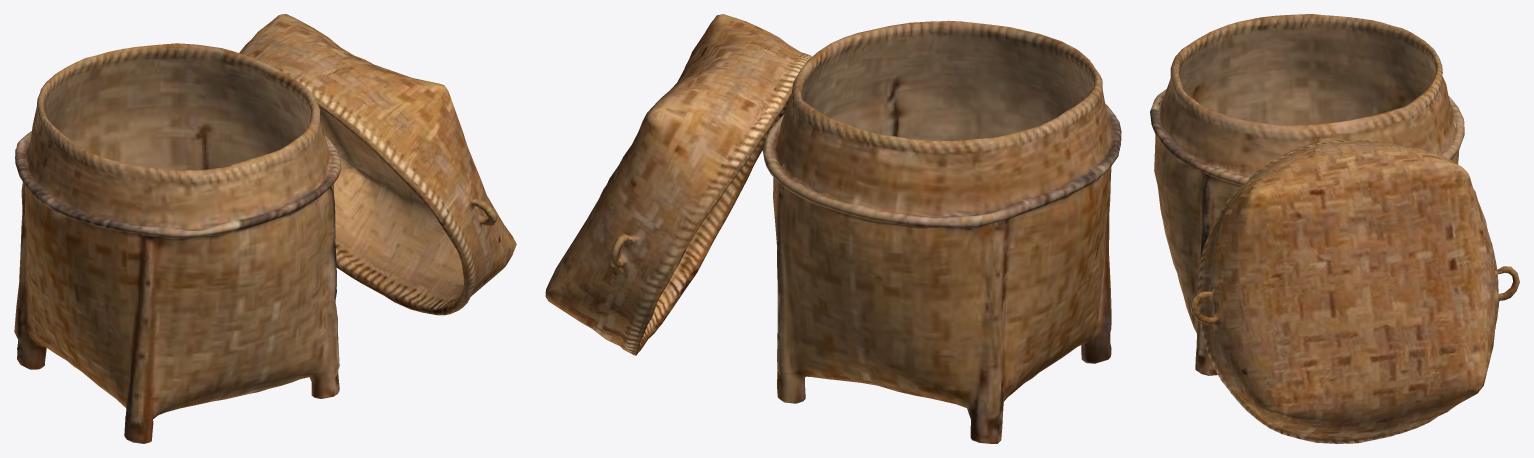
File: wicker_basket_02.glb
The picture shows the model from 3 angles, left to right: view 1: azimuth 30°, elevation 25°; view 2: azimuth 150°, elevation 25°; view 3: azimuth 270°, elevation 25°; orthographic projection. The views are drawn at different scales.
Parts seen in each view (by area): view 1: wicker_basket_02_base, wicker_basket_02_lid; view 2: wicker_basket_02_base, wicker_basket_02_lid; view 3: wicker_basket_02_lid, wicker_basket_02_base.
Boxes of the visible parts, x1=… form: wicker_basket_02_base: x1=14, y1=43, x2=341, y2=443; wicker_basket_02_lid: x1=239, y1=14, x2=516, y2=315; wicker_basket_02_base: x1=762, y1=20, x2=1121, y2=443; wicker_basket_02_lid: x1=545, y1=14, x2=811, y2=355; wicker_basket_02_lid: x1=1190, y1=140, x2=1519, y2=443; wicker_basket_02_base: x1=1150, y1=14, x2=1464, y2=375.
Size of the model in its own units: 0.3471 by 0.2005 by 0.2545.
Materials: 1 (1 with a texture image).
